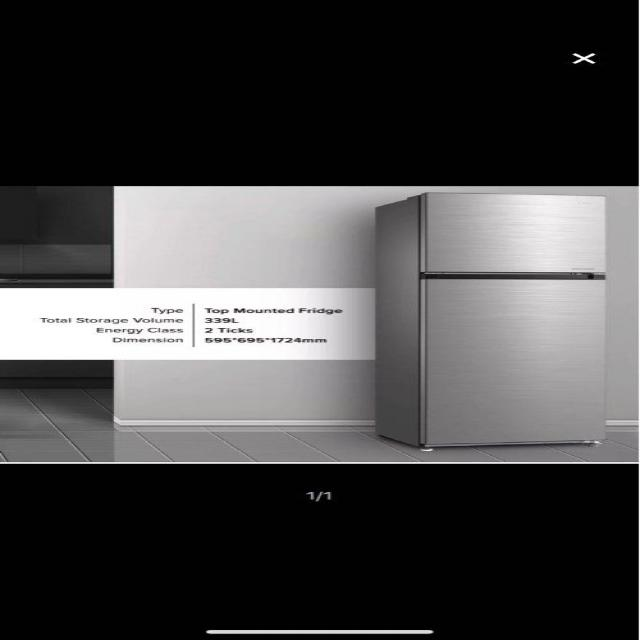refrigerator: (416, 193, 610, 451)
